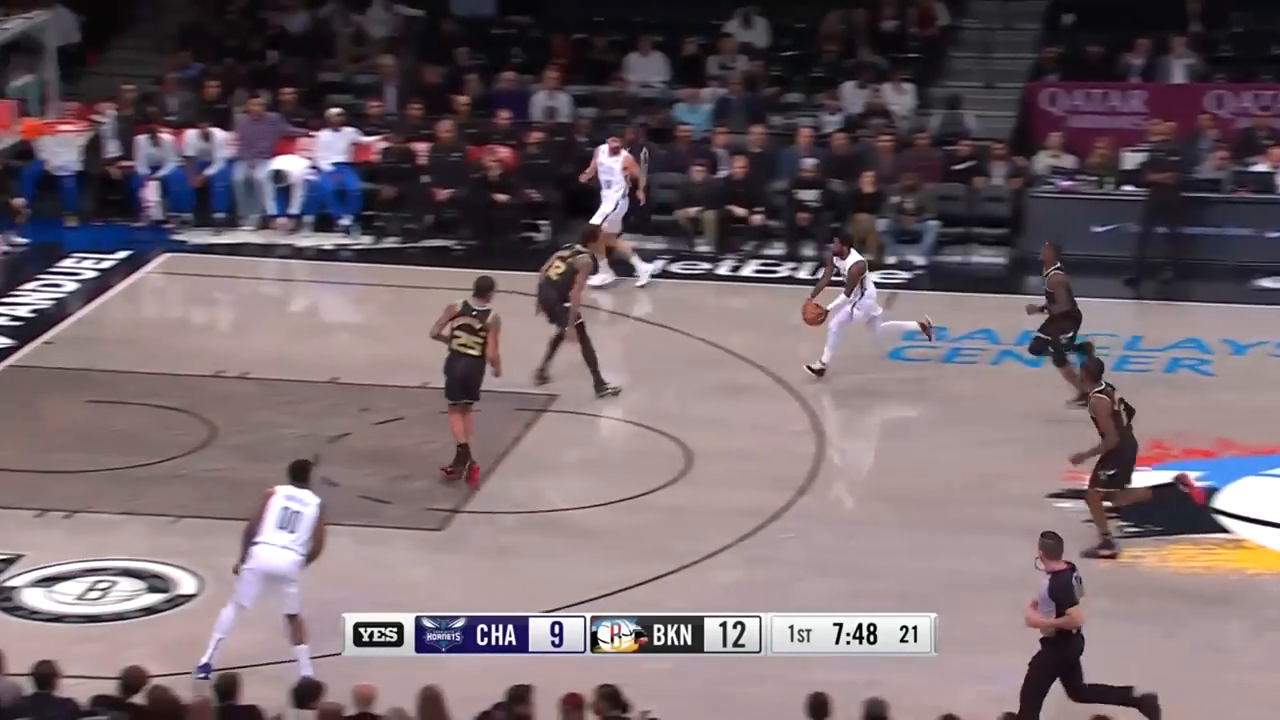ball: (797, 296, 831, 332)
net: (36, 115, 97, 181)
